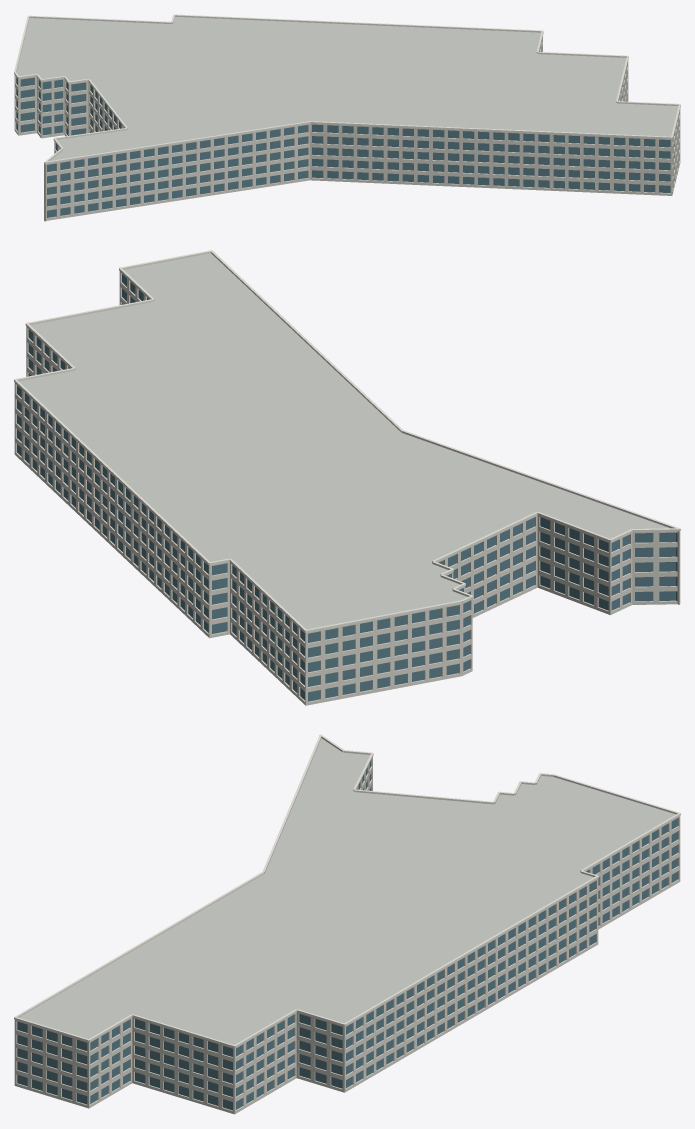
File: sb_1173588649.far.glb
3 renders of one model, top to bottom at view 1: azimuth 30°, elevation 25°; view 2: azimuth 150°, elevation 25°; view 3: azimuth 270°, elevation 25°, orthographic. The views are drawn at different scales.
Visible parts, largest first — view 1: roof, wall, glass, trim; view 2: roof, wall, glass, trim; view 3: roof, wall, glass, trim.
Part boxes in pixels (<box>): roof: <box>16,16,678,160</box>; wall: <box>14,36,680,221</box>; glass: <box>16,77,674,217</box>; trim: <box>14,14,680,164</box>; roof: <box>19,253,669,629</box>; wall: <box>14,271,680,705</box>; glass: <box>17,274,677,701</box>; trim: <box>14,250,680,632</box>; roof: <box>19,738,675,1044</box>; wall: <box>14,757,680,1114</box>; glass: <box>17,760,677,1110</box>; trim: <box>14,734,680,1047</box>.
Size of the model in its own units: 159 by 16.34 by 144.
